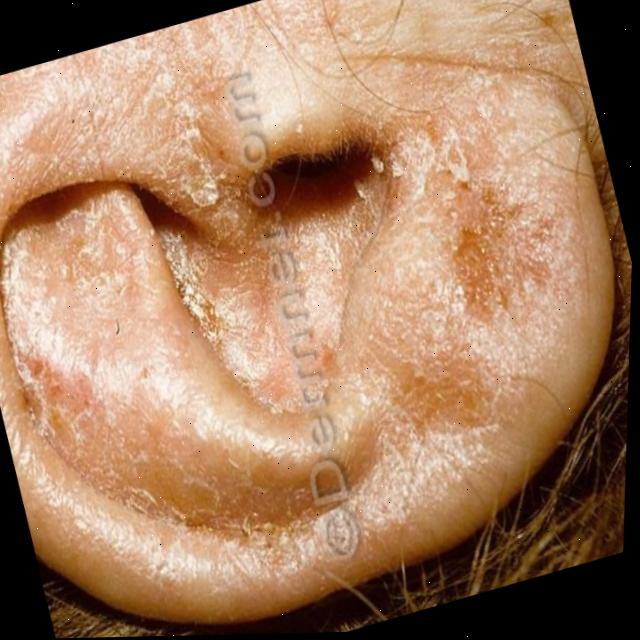Eczema: (0, 89, 592, 584)
